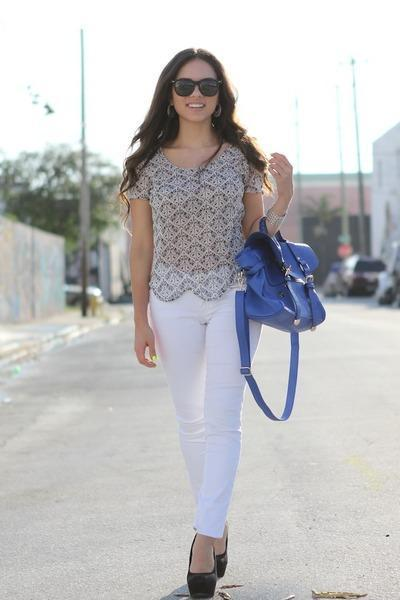bag: (235, 228, 330, 420)
pants: (145, 288, 256, 537)
shirt: (136, 143, 256, 302)
shoe: (187, 540, 227, 599)
sunglass: (193, 63, 227, 96)
